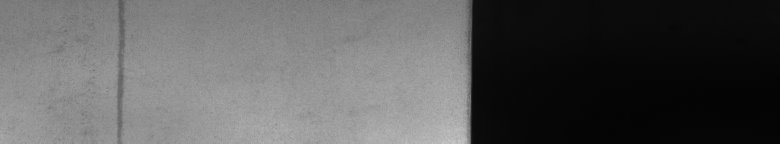hd: (57, 4, 128, 136)
